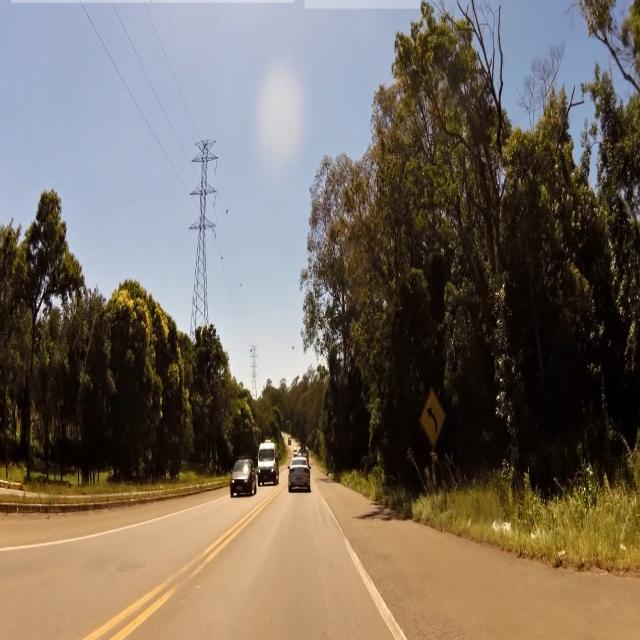A-2a: (420, 388, 445, 445)
